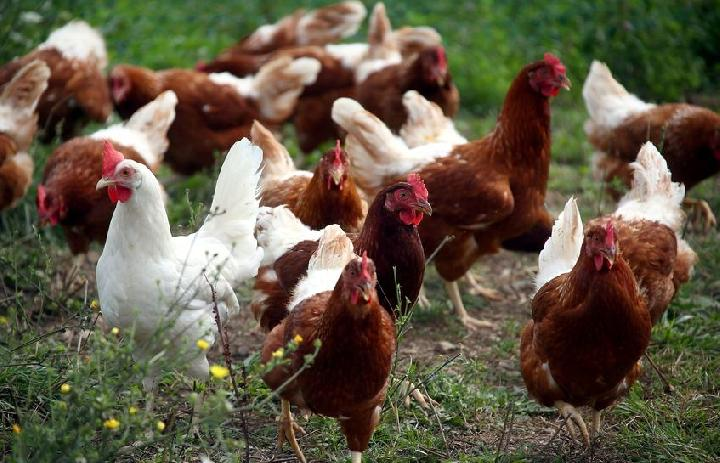ayam: (78, 146, 270, 407), (257, 245, 399, 463), (523, 206, 665, 422), (451, 42, 598, 221), (280, 142, 451, 252)
